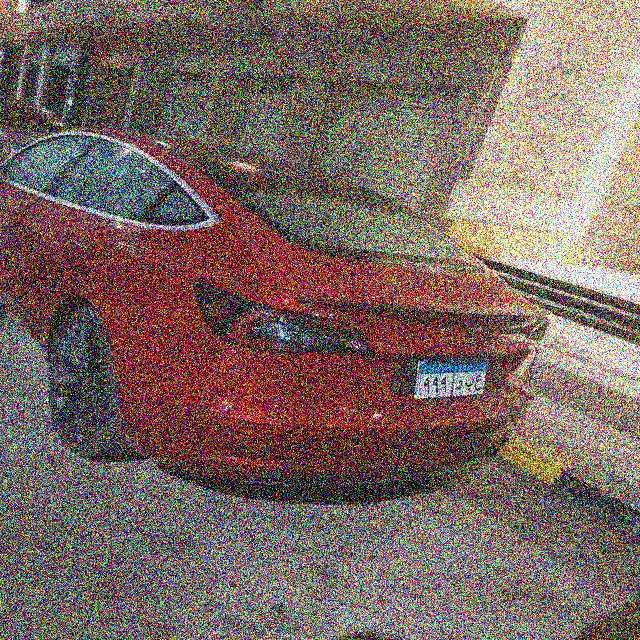License Plate: (413, 355, 489, 400)
